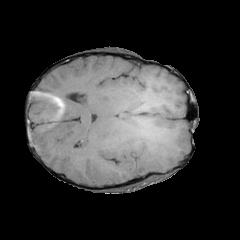glioma: (110, 83, 165, 173)
